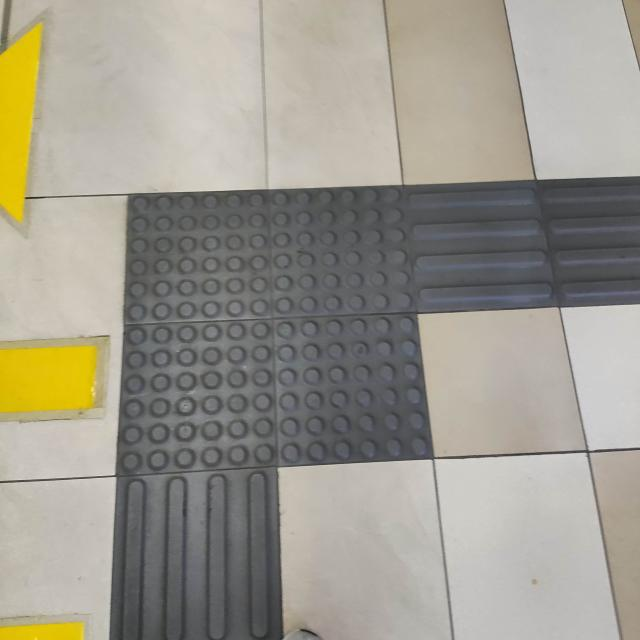kanan: (44, 129, 640, 578)
